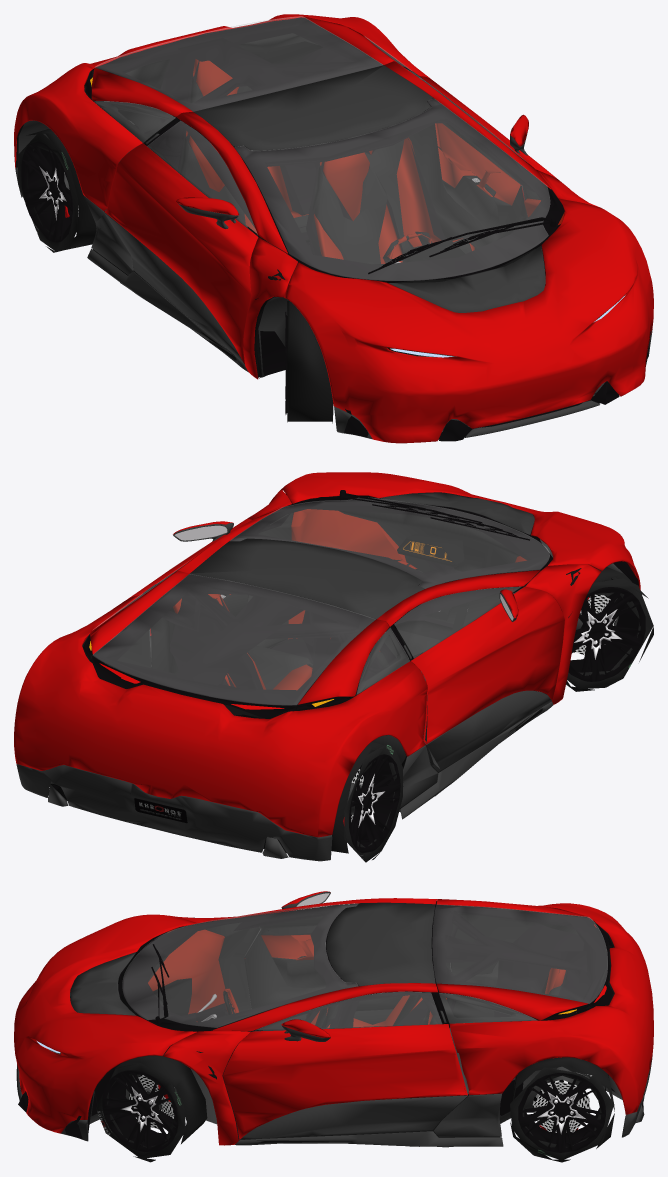
File: CarOptimized.glb
3 views of the same model, one above another, from view 1: azimuth 30°, elevation 25°; view 2: azimuth 150°, elevation 25°; view 3: azimuth 270°, elevation 25° (orthographic). The views are drawn at different scales.
Parts seen in each view (by area): view 1: BodyRearPanelsColor1, BodyWindshield, BodyWindshieldGasket, BodyRoofPanel, InteriorDashSides, InteriorDashMid, InteriorSeatsColor2, object 21, WheelFrontLRim, BodyUnderside, InteriorMid, InteriorSteeringDash; view 2: BodyRearPanelsColor1, BodyWindshield, BodyWindshieldGasket, BodyRoofPanel, WheelFrontLRim, InteriorDashMid, InteriorDashSides, object 21, InteriorSeatsColor2, InteriorSteeringDash, BodyUnderside, InteriorMid (+3 smaller); view 3: BodyRearPanelsColor1, BodyWindshield, BodyWindshieldGasket, BodyRoofPanel, WheelFrontLRim, InteriorDashMid, object 21, InteriorDashSides, InteriorMid, BodyUnderside, WheelFrontLBrakeDisc, InteriorSteeringDash (+1 smaller).
Part boxes in pixels (x1,y1,x2,y2): BodyRearPanelsColor1: (14,14,653,443); BodyWindshield: (94,16,549,280); BodyWindshieldGasket: (18,17,651,441); BodyRoofPanel: (15,65,652,439); InteriorDashSides: (186,59,564,350); InteriorDashMid: (16,32,534,283); InteriorSeatsColor2: (179,77,471,264); object 21: (18,128,332,423); WheelFrontLRim: (21,141,333,414); BodyUnderside: (18,77,607,431); InteriorMid: (92,173,558,376); InteriorSteeringDash: (406,240,465,262); BodyRearPanelsColor1: (14,472,640,837); BodyWindshield: (93,498,549,705); BodyWindshieldGasket: (52,490,638,850); BodyRoofPanel: (16,492,553,861); WheelFrontLRim: (349,578,645,853); InteriorDashMid: (48,501,529,853); InteriorDashSides: (173,497,526,712); object 21: (331,567,653,862); InteriorSeatsColor2: (177,610,440,689); InteriorSteeringDash: (397,534,464,567); BodyUnderside: (48,519,631,858); InteriorMid: (257,509,581,809); BodyRearPanelsColor1: (14,891,653,1145); BodyWindshield: (122,903,607,1030); BodyWindshieldGasket: (18,901,643,1139); BodyRoofPanel: (16,892,652,1147); WheelFrontLRim: (102,1070,605,1152); InteriorDashMid: (118,906,614,1027); object 21: (94,1053,614,1162); InteriorDashSides: (148,928,565,1098); InteriorMid: (187,917,500,1143); BodyUnderside: (38,928,644,1124); WheelFrontLBrakeDisc: (129,1075,590,1132); InteriorSteeringDash: (153,978,191,1015).
Size of the model in its own units: 2.54 by 1.15 by 4.36.
Materials: 23 (6 with a texture image).
